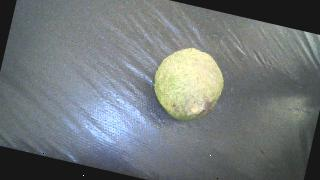DESECHO: (147, 41, 230, 127)
